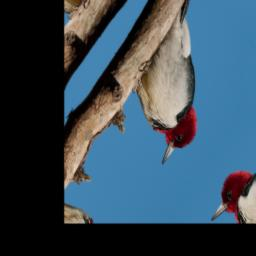Woodpecker: (110, 0, 252, 173)
